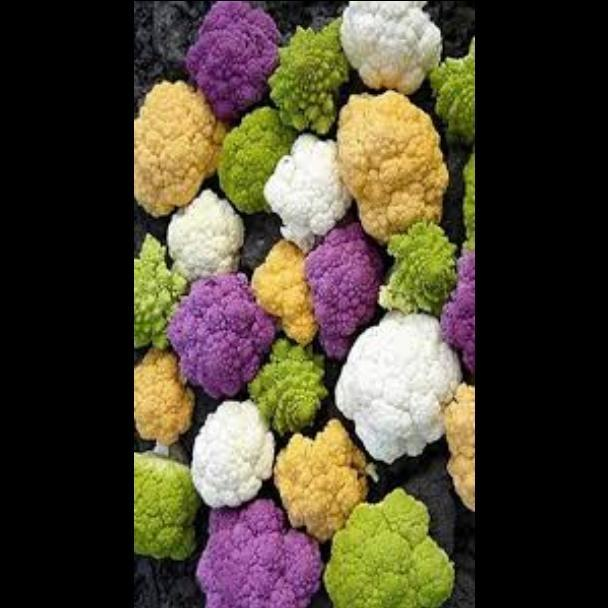cauliflower: (328, 302, 464, 470), (335, 87, 453, 255), (319, 480, 458, 608), (181, 492, 319, 608), (266, 419, 383, 543), (160, 274, 270, 400), (133, 81, 231, 211), (182, 2, 280, 122), (260, 10, 352, 136), (329, 1, 447, 97), (198, 104, 292, 222), (262, 132, 354, 246), (182, 392, 272, 504), (242, 343, 340, 445), (361, 222, 454, 322), (133, 447, 206, 571), (156, 183, 240, 286), (133, 217, 192, 357), (245, 246, 327, 346), (133, 346, 201, 448), (427, 374, 474, 512), (430, 26, 474, 152), (432, 238, 473, 368)
